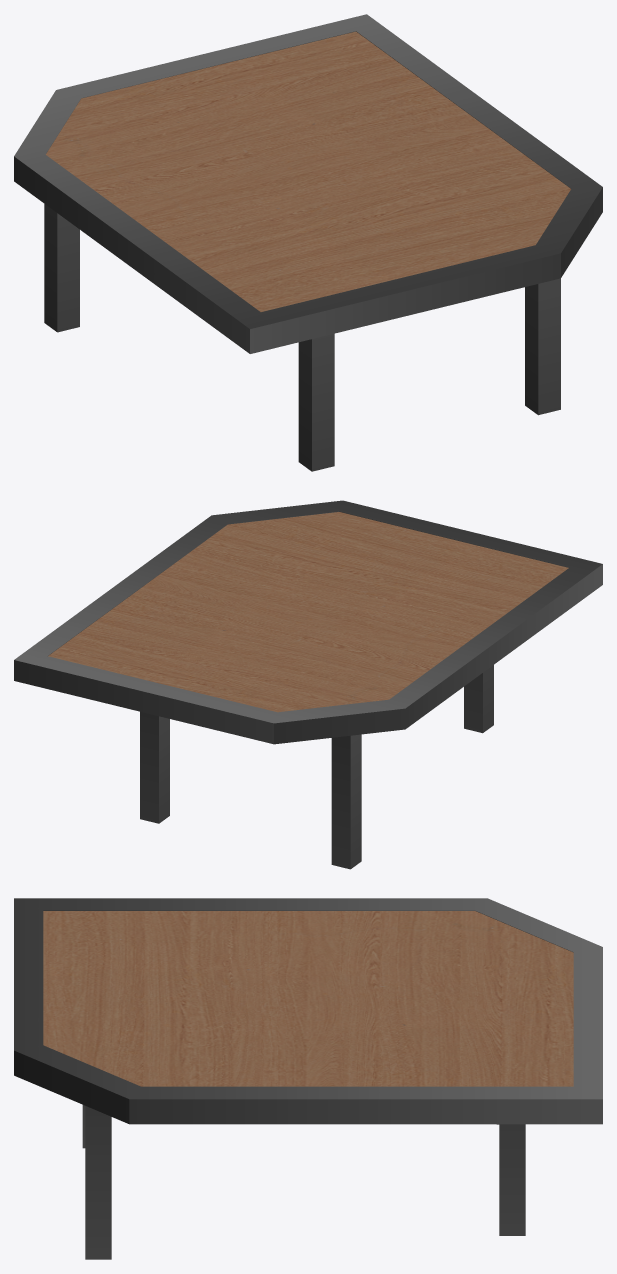
The model's file is FUR0210075.fbx.
3 renders of one model, top to bottom at view 1: azimuth 30°, elevation 25°; view 2: azimuth 150°, elevation 25°; view 3: azimuth 270°, elevation 25°, orthographic. The views are drawn at different scales.
Visible parts, largest first — view 1: smFUR0210075; view 2: smFUR0210075; view 3: smFUR0210075.
Boxes of the visible parts, x1=… form: smFUR0210075: x1=14, y1=14, x2=602, y2=471; smFUR0210075: x1=14, y1=500, x2=602, y2=869; smFUR0210075: x1=14, y1=898, x2=602, y2=1259.
Size of the model in its own units: 130 by 57.91 by 161.
Materials: 1 (1 with a texture image).
